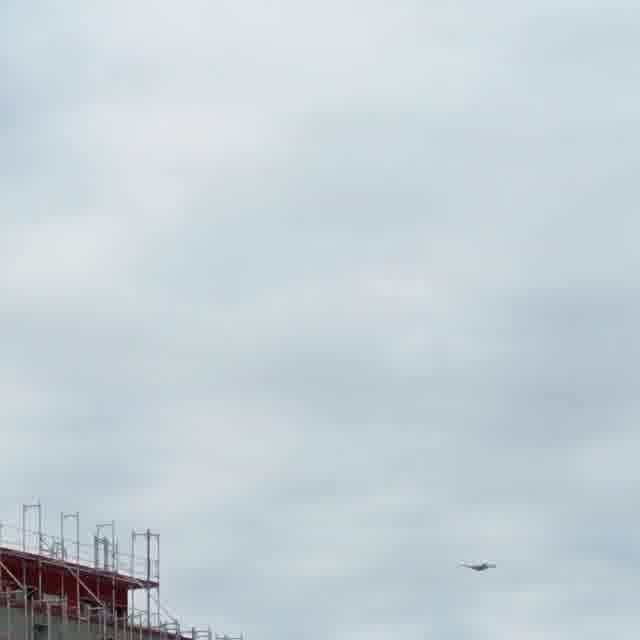Drohne: (460, 561, 496, 571)
